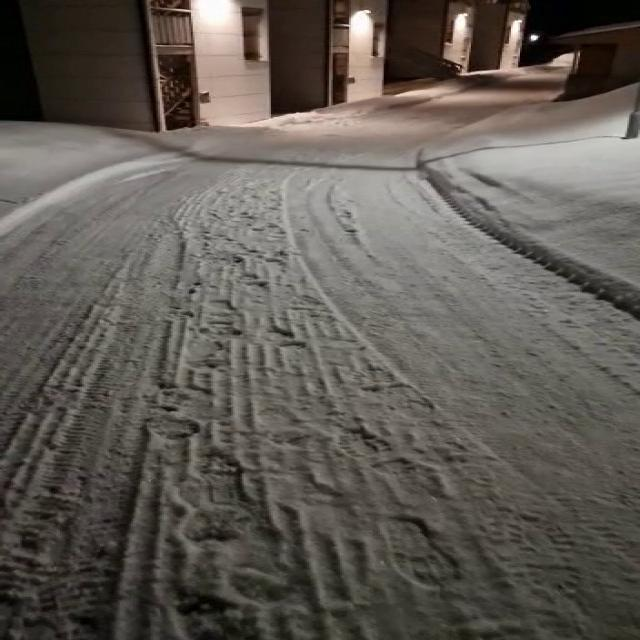path: (0, 68, 638, 640)
